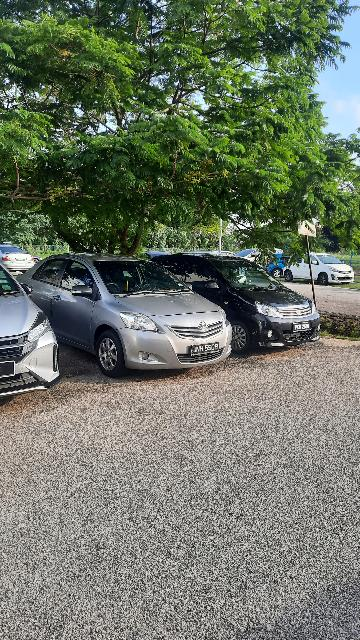License_Plate: (187, 342, 221, 359), (292, 319, 313, 333)
car: (18, 253, 234, 374), (152, 254, 327, 356), (1, 262, 63, 409)
